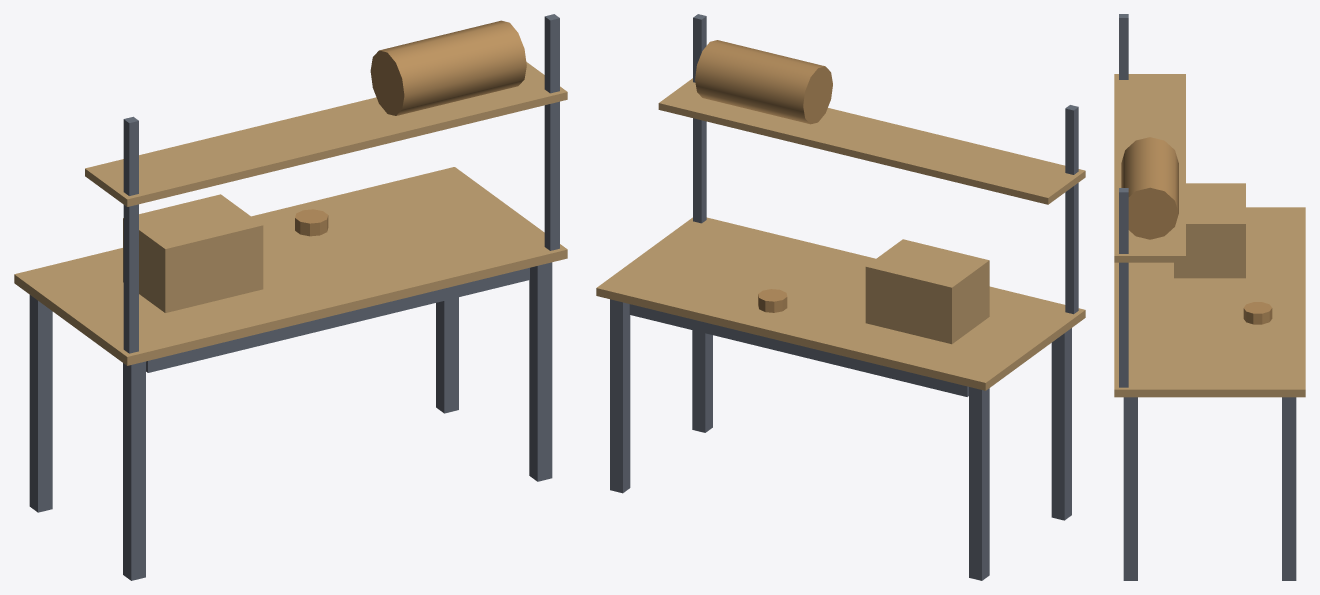
Rendered from industrial.depot.packing_bench.glb.
The picture shows the model from 3 angles, left to right: view 1: azimuth 30°, elevation 25°; view 2: azimuth 150°, elevation 25°; view 3: azimuth 270°, elevation 25°; orthographic projection. The views are drawn at different scales.
Visible parts, largest first — view 1: main__plywood, main__steel_painted, main__softwood; view 2: main__plywood, main__steel_painted, main__softwood; view 3: main__plywood, main__steel_painted, main__softwood.
Part boxes in pixels (<box>): main__plywood: <box>14,62,567,365</box>; main__steel_painted: <box>29,14,559,580</box>; main__softwood: <box>295,20,526,236</box>; main__plywood: <box>596,78,1085,390</box>; main__steel_painted: <box>610,14,1078,580</box>; main__softwood: <box>695,40,832,312</box>; main__plywood: <box>1114,74,1305,397</box>; main__steel_painted: <box>1119,14,1296,580</box>; main__softwood: <box>1121,137,1272,324</box>.
Bounding box in the file's own units: 1.8 × 1.8 × 0.8.
